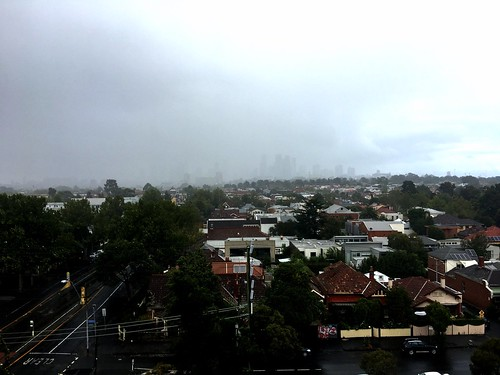building: (142, 259, 260, 331), (311, 260, 387, 302), (388, 278, 464, 320), (427, 210, 484, 244)
sky: (1, 1, 500, 168)
street: (1, 260, 133, 375)
